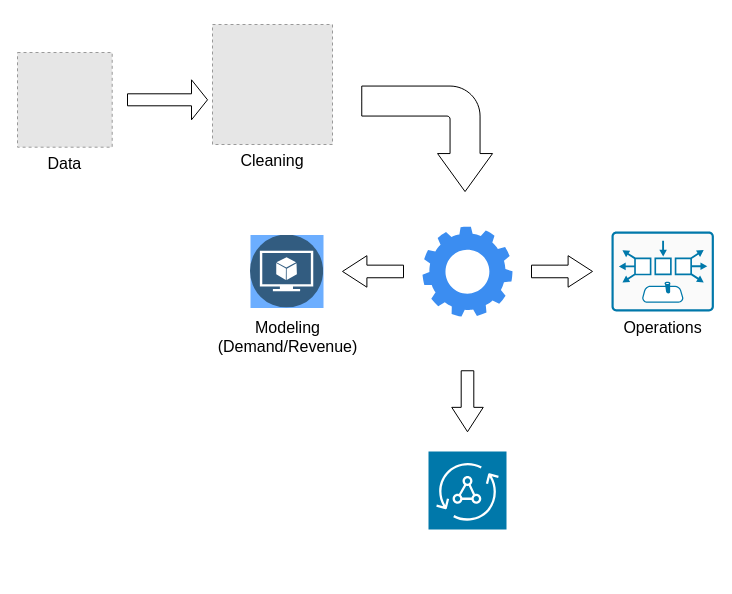
Image size: 732x594. Some labels were removed from this diagram. Grey dashed boxes stand in for pictures. Each missing label, with the centre of its shape:
Feature Engineering: (467,271)
Integration: (467,490)
